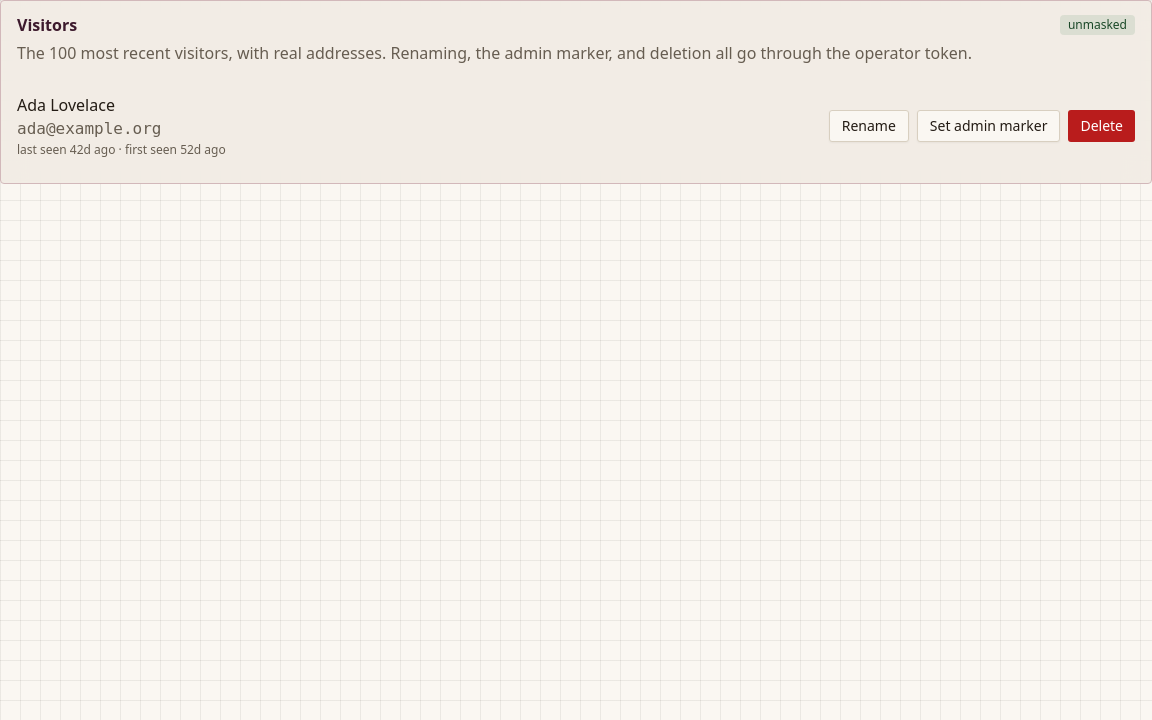
VisitorDirectory › renders a refused mutation instead of appearing to succeed
Step 1. Click the button "Set admin marker" → (989, 126), box [917,110,1060,142]
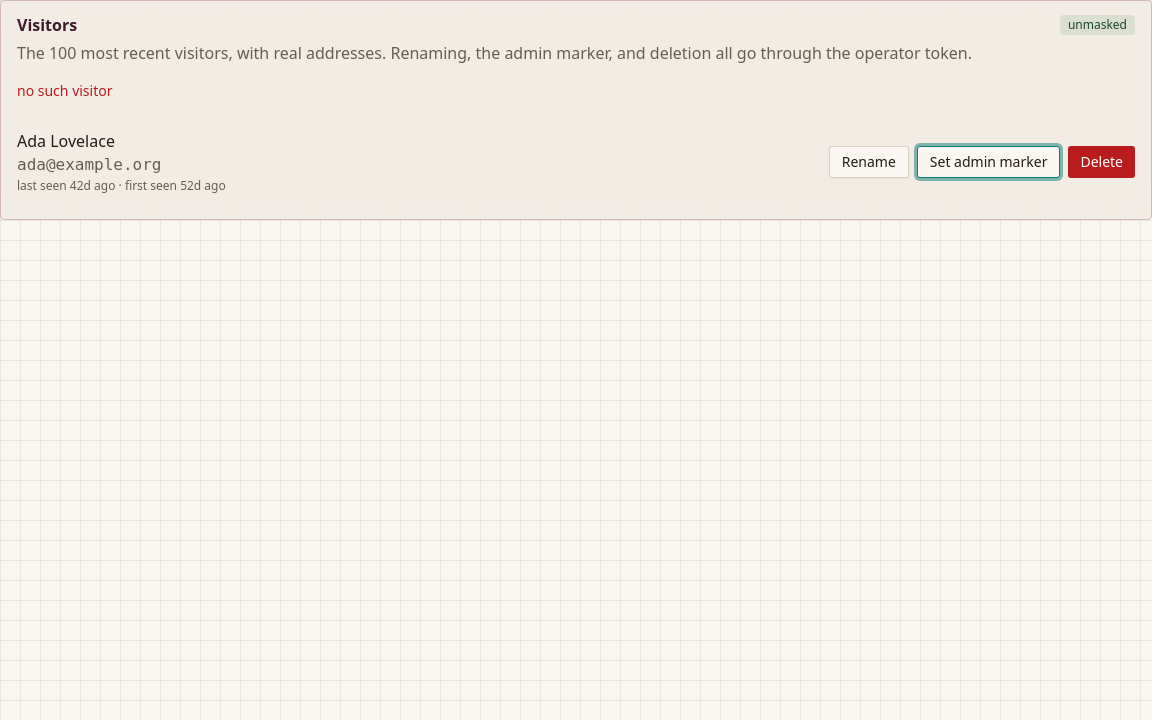
Check: the message reads "no such visitor", box [17,81,112,100]
